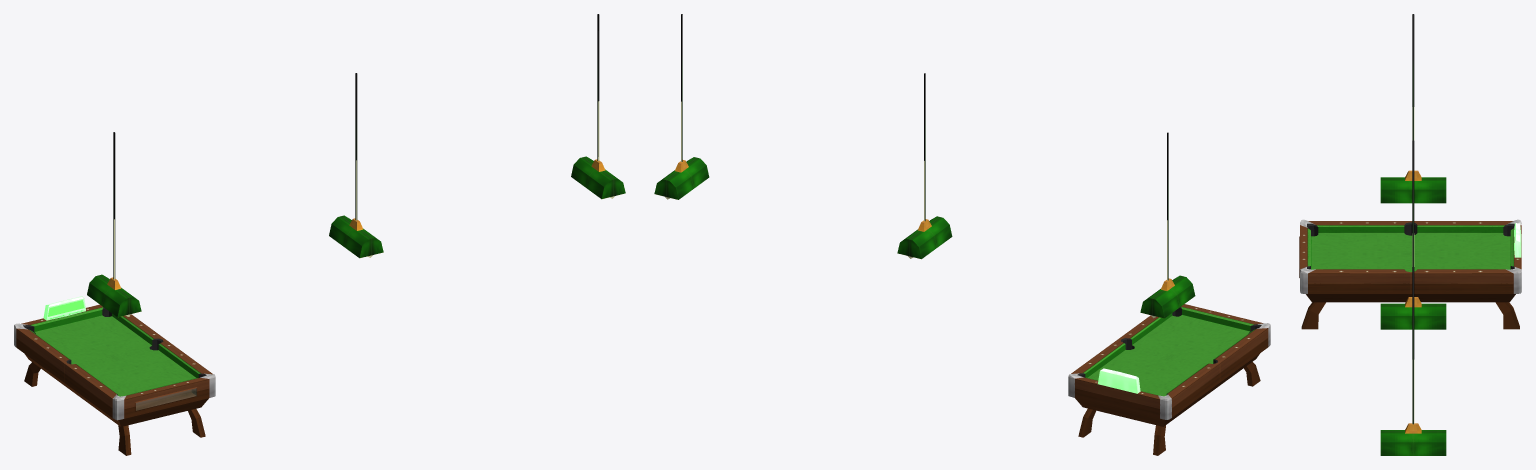
The model's file is billarIndividual.glb.
3 renders of one model, left to right at view 1: azimuth 30°, elevation 25°; view 2: azimuth 150°, elevation 25°; view 3: azimuth 270°, elevation 25°, orthographic. The views are drawn at different scales.
Visible parts, largest first — view 1: MesaBillar, SetLamparas, Cube; view 2: MesaBillar, SetLamparas, Cube; view 3: MesaBillar, SetLamparas, Cube.
Part boxes in pixels (left/top/right/bottom): MesaBillar: left=14, top=304, right=215, bottom=455; SetLamparas: left=87, top=14, right=625, bottom=317; Cube: left=43, top=296, right=85, bottom=320; MesaBillar: left=1068, top=304, right=1270, bottom=455; SetLamparas: left=654, top=14, right=1195, bottom=318; Cube: left=1098, top=368, right=1140, bottom=393; MesaBillar: left=1299, top=219, right=1521, bottom=329; SetLamparas: left=1380, top=14, right=1446, bottom=455; Cube: left=1514, top=223, right=1521, bottom=257.
Bounding box in the file's own units: 17.68 × 8.5 × 5.82.
4 materials, 4 textured.
